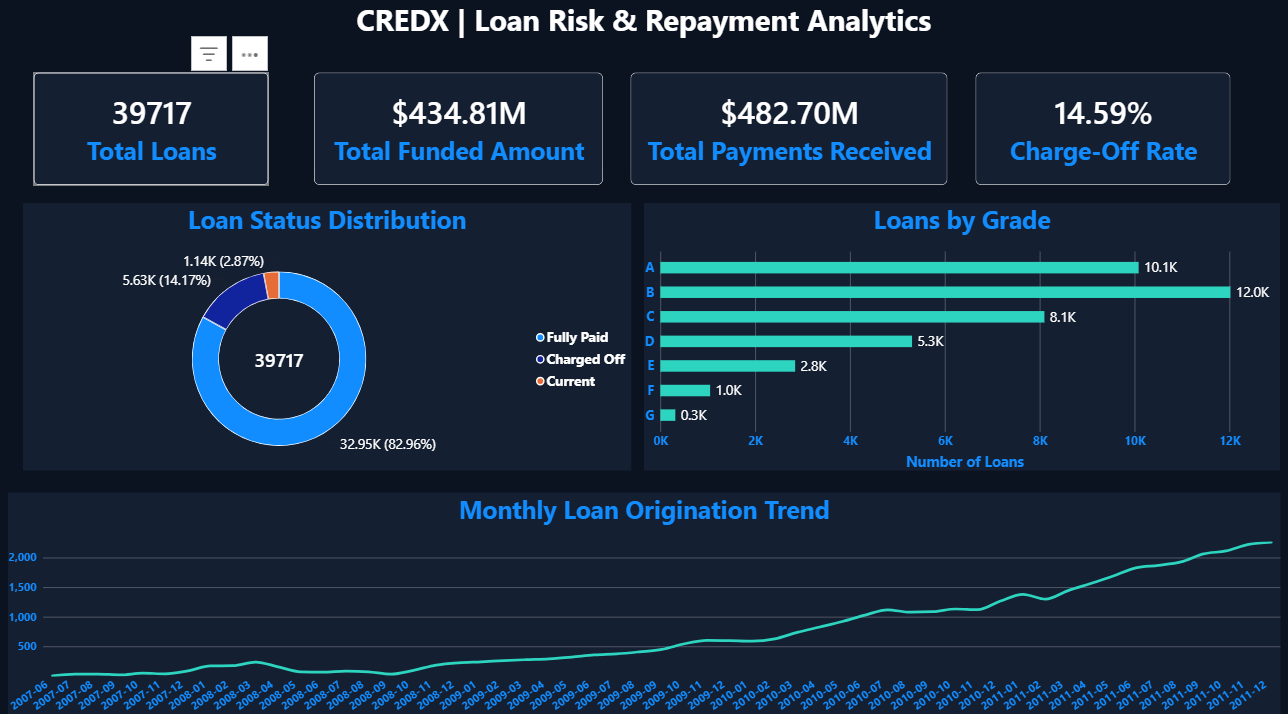

What the dashboard file says about the page in this screenshot:
{"tool":"powerbi","page":{"name":"Portfolio Overview","canvas":[1920,1080],"ordinal":0},"visuals":[{"type":"textbox","box":[0,0,1919.3,104.5],"z":0},{"type":"cardVisual","fields":{"Data":["Count(credx fact_loans.loan_id)"]},"box":[63.6,124.9,345.2,165.8],"z":1000},{"type":"cardVisual","fields":{"Data":["Sum(credx fact_loans.funded_amnt)"]},"box":[474.7,124.9,424.7,165.8],"z":2000},{"type":"cardVisual","fields":{"Data":["Sum(credx fact_loans.total_pymnt)"]},"box":[940.3,124.9,465.6,165.8],"z":3000},{"type":"cardVisual","fields":{"Data":["credx fact_loans.Charge-Off Rate"]},"box":[1446.8,124.9,374.8,165.8],"z":4000},{"type":"donutChart","title":"Loan Status Distribution","fields":{"Category":["credx fact_loans.loan_status"],"Y":["Count(credx fact_loans.loan_id)"]},"box":[47.7,318,892.6,392.9],"z":5000},{"type":"clusteredBarChart","title":"Loans by Grade","fields":{"Category":["credx dim_loan_details.grade"],"Y":["Count(credx fact_loans.loan_id)"]},"box":[960.8,318,933.5,392.9],"z":6000},{"type":"lineChart","title":"Monthly Loan Origination Trend","fields":{"Category":["credx dim_dates.year_month"],"Y":["Count(credx fact_loans.loan_id)"]},"box":[27.3,742.7,1867,336.2],"z":7000}]}

Visuals, with their boxes in screenshot pixels (x1, y1, x2, y2), scaled from the page's 1920x1080 canvas onto the 1288x714 screenshot:
textbox: BBox(0, 0, 1287, 69)
cardVisual - Count(credx fact_loans.loan_id): BBox(43, 83, 274, 192)
cardVisual - Sum(credx fact_loans.funded_amnt): BBox(318, 83, 603, 192)
cardVisual - Sum(credx fact_loans.total_pymnt): BBox(631, 83, 943, 192)
cardVisual - credx fact_loans.Charge-Off Rate: BBox(971, 83, 1222, 192)
"Loan Status Distribution" donutChart: BBox(32, 210, 631, 470)
"Loans by Grade" clusteredBarChart: BBox(645, 210, 1271, 470)
"Monthly Loan Origination Trend" lineChart: BBox(18, 491, 1271, 713)
